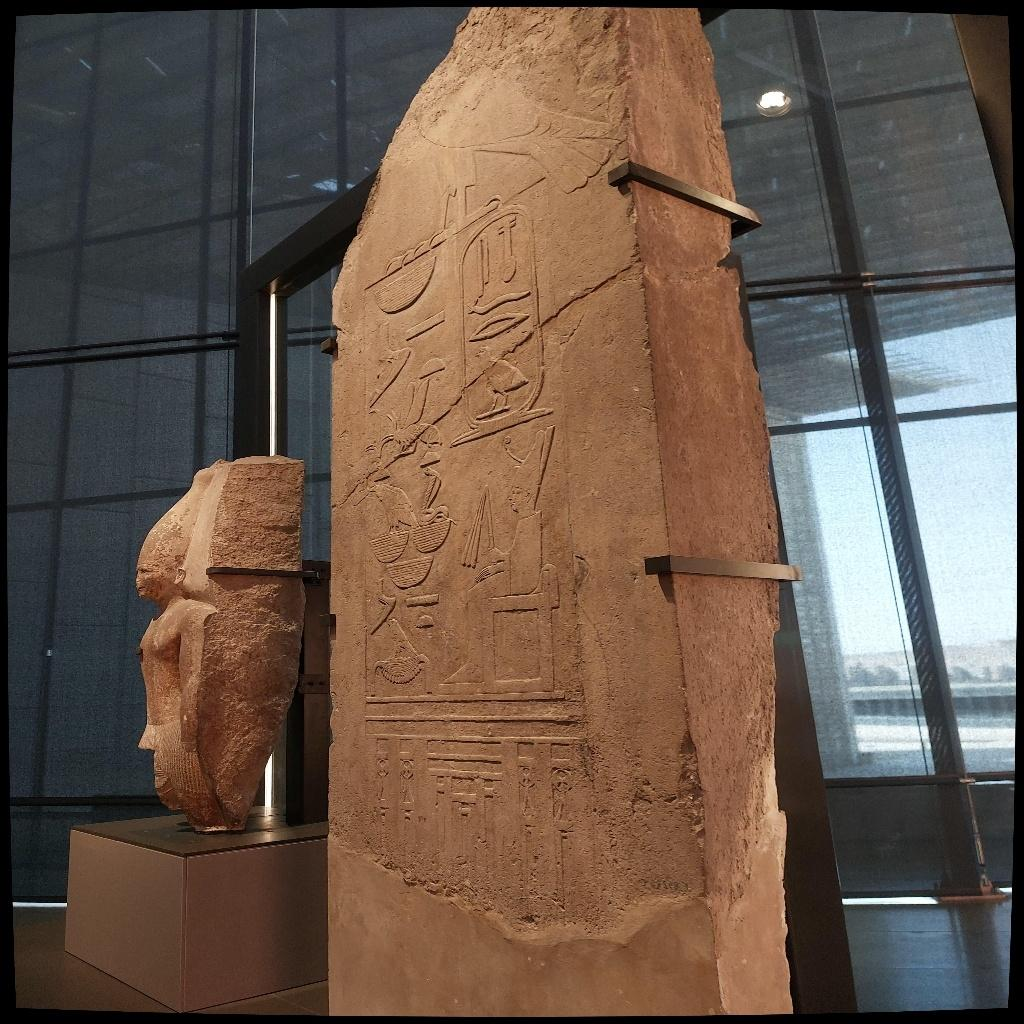Stela of king Snefero: (325, 8, 688, 908)
